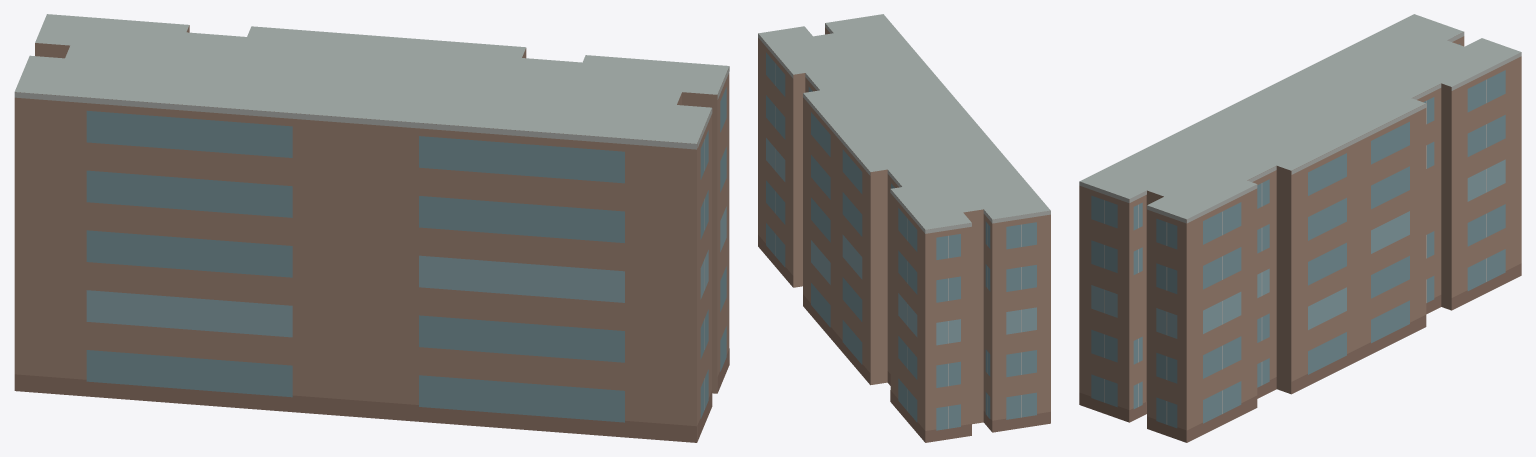
Rendered from survey-upis-32938256.glb.
3 renders of one model, left to right at view 1: azimuth 30°, elevation 25°; view 2: azimuth 150°, elevation 25°; view 3: azimuth 270°, elevation 25°, orthographic. The views are drawn at different scales.
Parts seen in each view (by area): view 1: survey-upis-32938256.tmp; view 2: survey-upis-32938256.tmp; view 3: survey-upis-32938256.tmp.
Boxes of the visible parts, box(x1,y1,x2,y2) form: survey-upis-32938256.tmp: box(14, 14, 729, 442); survey-upis-32938256.tmp: box(758, 14, 1050, 442); survey-upis-32938256.tmp: box(1079, 14, 1521, 442).
Size of the model in its own units: 25.37 by 12.88 by 23.08.
